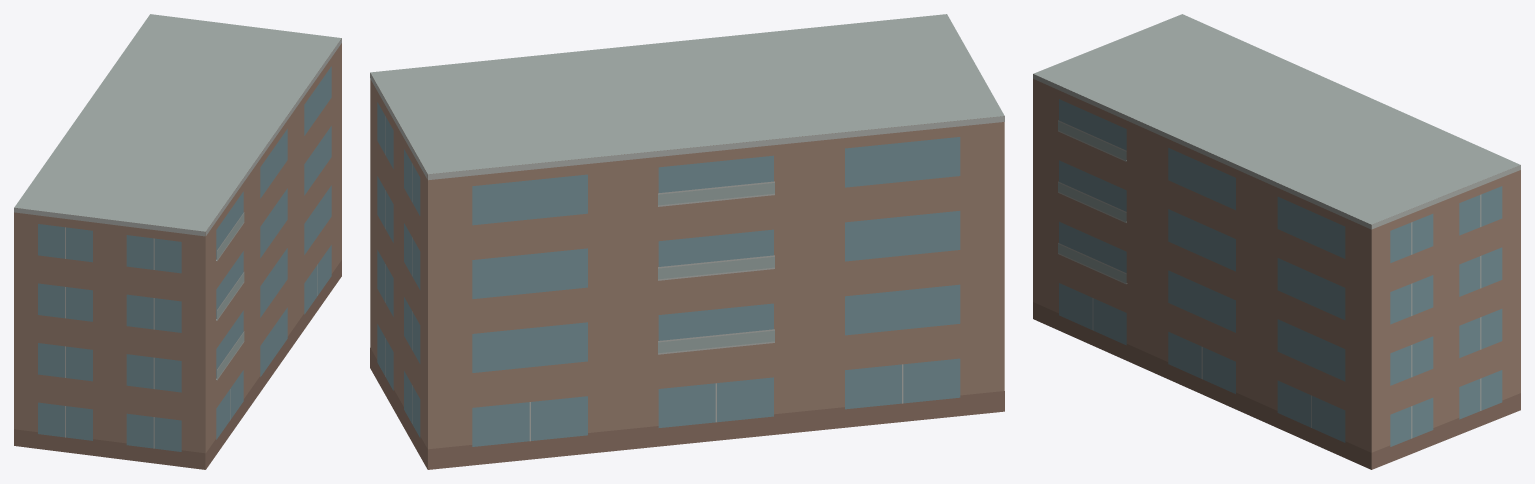
The model's file is residential-0326af9e-64ad-4079-922d-63dd62459b63.glb.
3 views of the same model, side by side, from view 1: azimuth 30°, elevation 25°; view 2: azimuth 150°, elevation 25°; view 3: azimuth 270°, elevation 25° (orthographic). The views are drawn at different scales.
Parts seen in each view (by area): view 1: residential-0326af9e-64ad-4079-922d-63dd62459b63.tmp; view 2: residential-0326af9e-64ad-4079-922d-63dd62459b63.tmp; view 3: residential-0326af9e-64ad-4079-922d-63dd62459b63.tmp.
Part boxes in pixels (x1=…): residential-0326af9e-64ad-4079-922d-63dd62459b63.tmp: x1=14, y1=14, x2=341, y2=469; residential-0326af9e-64ad-4079-922d-63dd62459b63.tmp: x1=370, y1=14, x2=1004, y2=469; residential-0326af9e-64ad-4079-922d-63dd62459b63.tmp: x1=1033, y1=14, x2=1520, y2=469.
Size of the model in its own units: 22.5 by 12.2 by 22.01.
